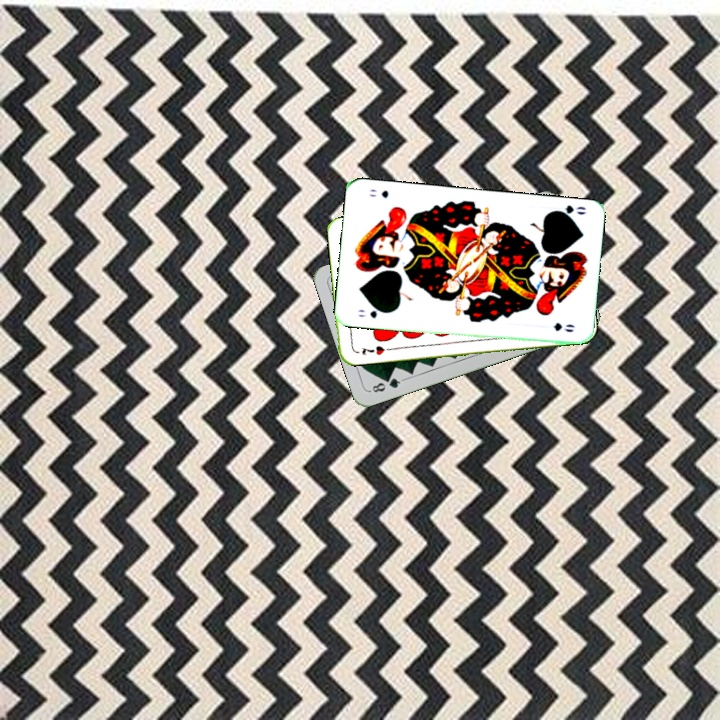G8: (366, 374, 406, 395)
GO: (548, 201, 589, 221), (354, 304, 390, 321)
H7: (358, 342, 393, 358)
